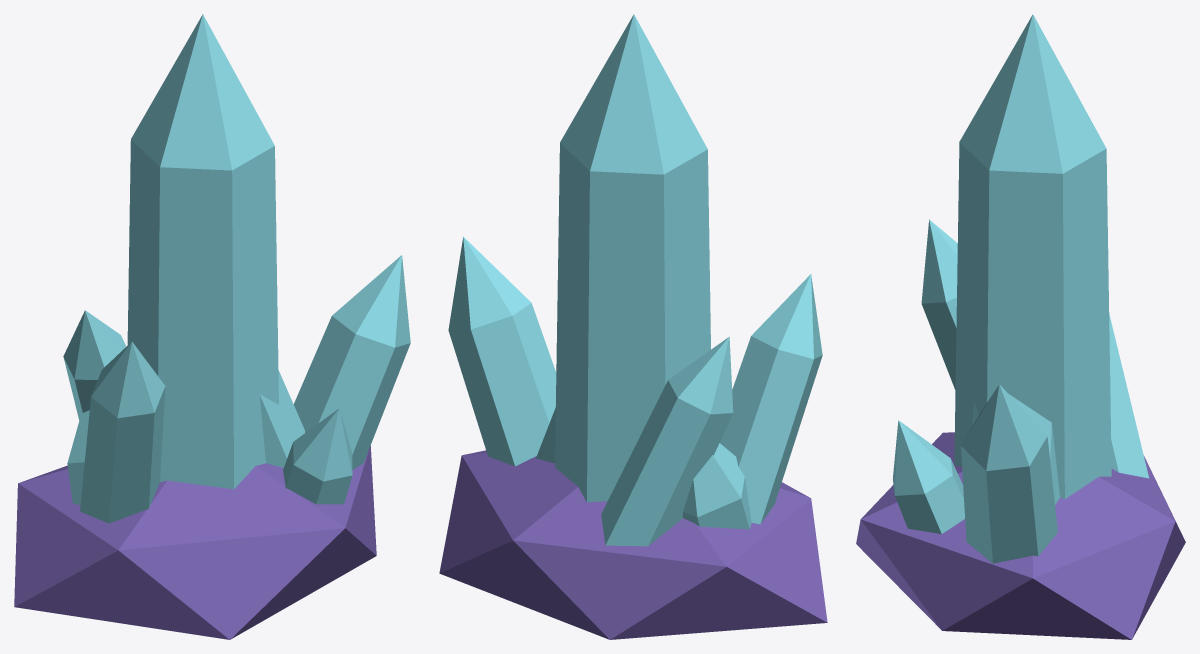
File: Plateau_Crystals1.fbx
The picture shows the model from 3 angles, left to right: view 1: azimuth 30°, elevation 25°; view 2: azimuth 150°, elevation 25°; view 3: azimuth 270°, elevation 25°; orthographic projection. The views are drawn at different scales.
Parts seen in each view (by area): view 1: Plateau_Crystals1; view 2: Plateau_Crystals1; view 3: Plateau_Crystals1.
Boxes of the visible parts, x1,y1,x2,y2 form: Plateau_Crystals1: (14, 14, 410, 639); Plateau_Crystals1: (439, 14, 827, 639); Plateau_Crystals1: (856, 14, 1185, 639).
Size of the model in its own units: 2.08 by 3.19 by 1.56.
